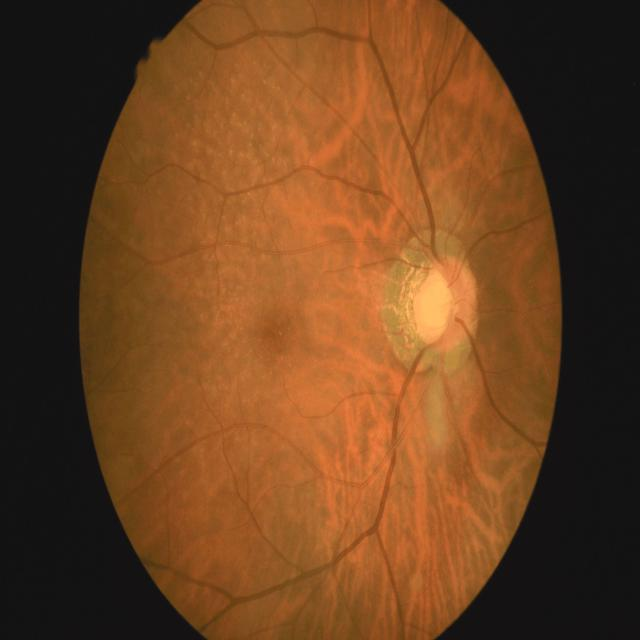cup: (415, 268, 451, 346)
disk: (412, 258, 478, 358)
